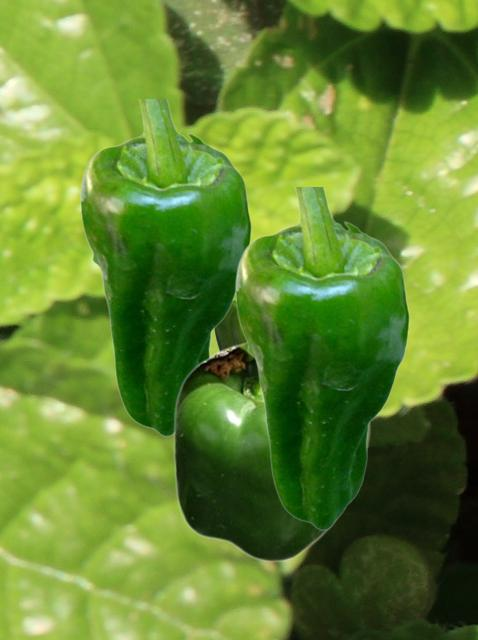bell_pepper: (234, 187, 409, 530), (79, 99, 251, 436), (172, 340, 370, 562), (214, 300, 245, 349)
